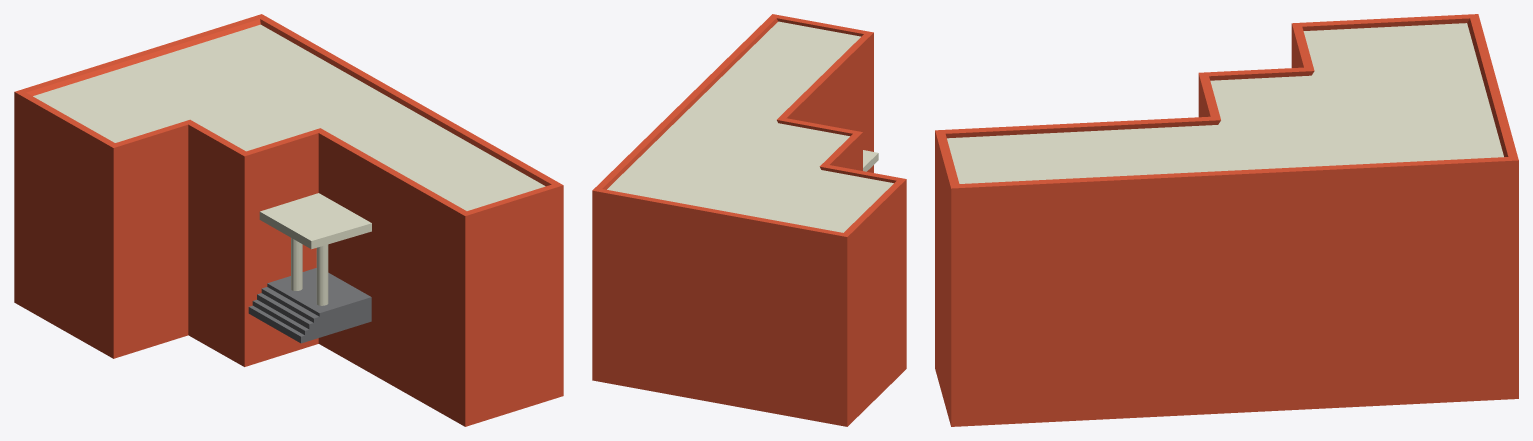
Rendered from Willson Hall.fbx.
3 views of the same model, side by side, from view 1: azimuth 30°, elevation 25°; view 2: azimuth 150°, elevation 25°; view 3: azimuth 270°, elevation 25° (orthographic). The views are drawn at different scales.
Visible parts, largest first — view 1: Willson Hall; view 2: Willson Hall; view 3: Willson Hall.
Boxes of the visible parts, box(x1,y1,x2,y2) form: Willson Hall: box(14, 14, 563, 426); Willson Hall: box(592, 14, 906, 426); Willson Hall: box(935, 14, 1518, 426).
Bounding box in the file's own units: 218 × 139 × 308.
